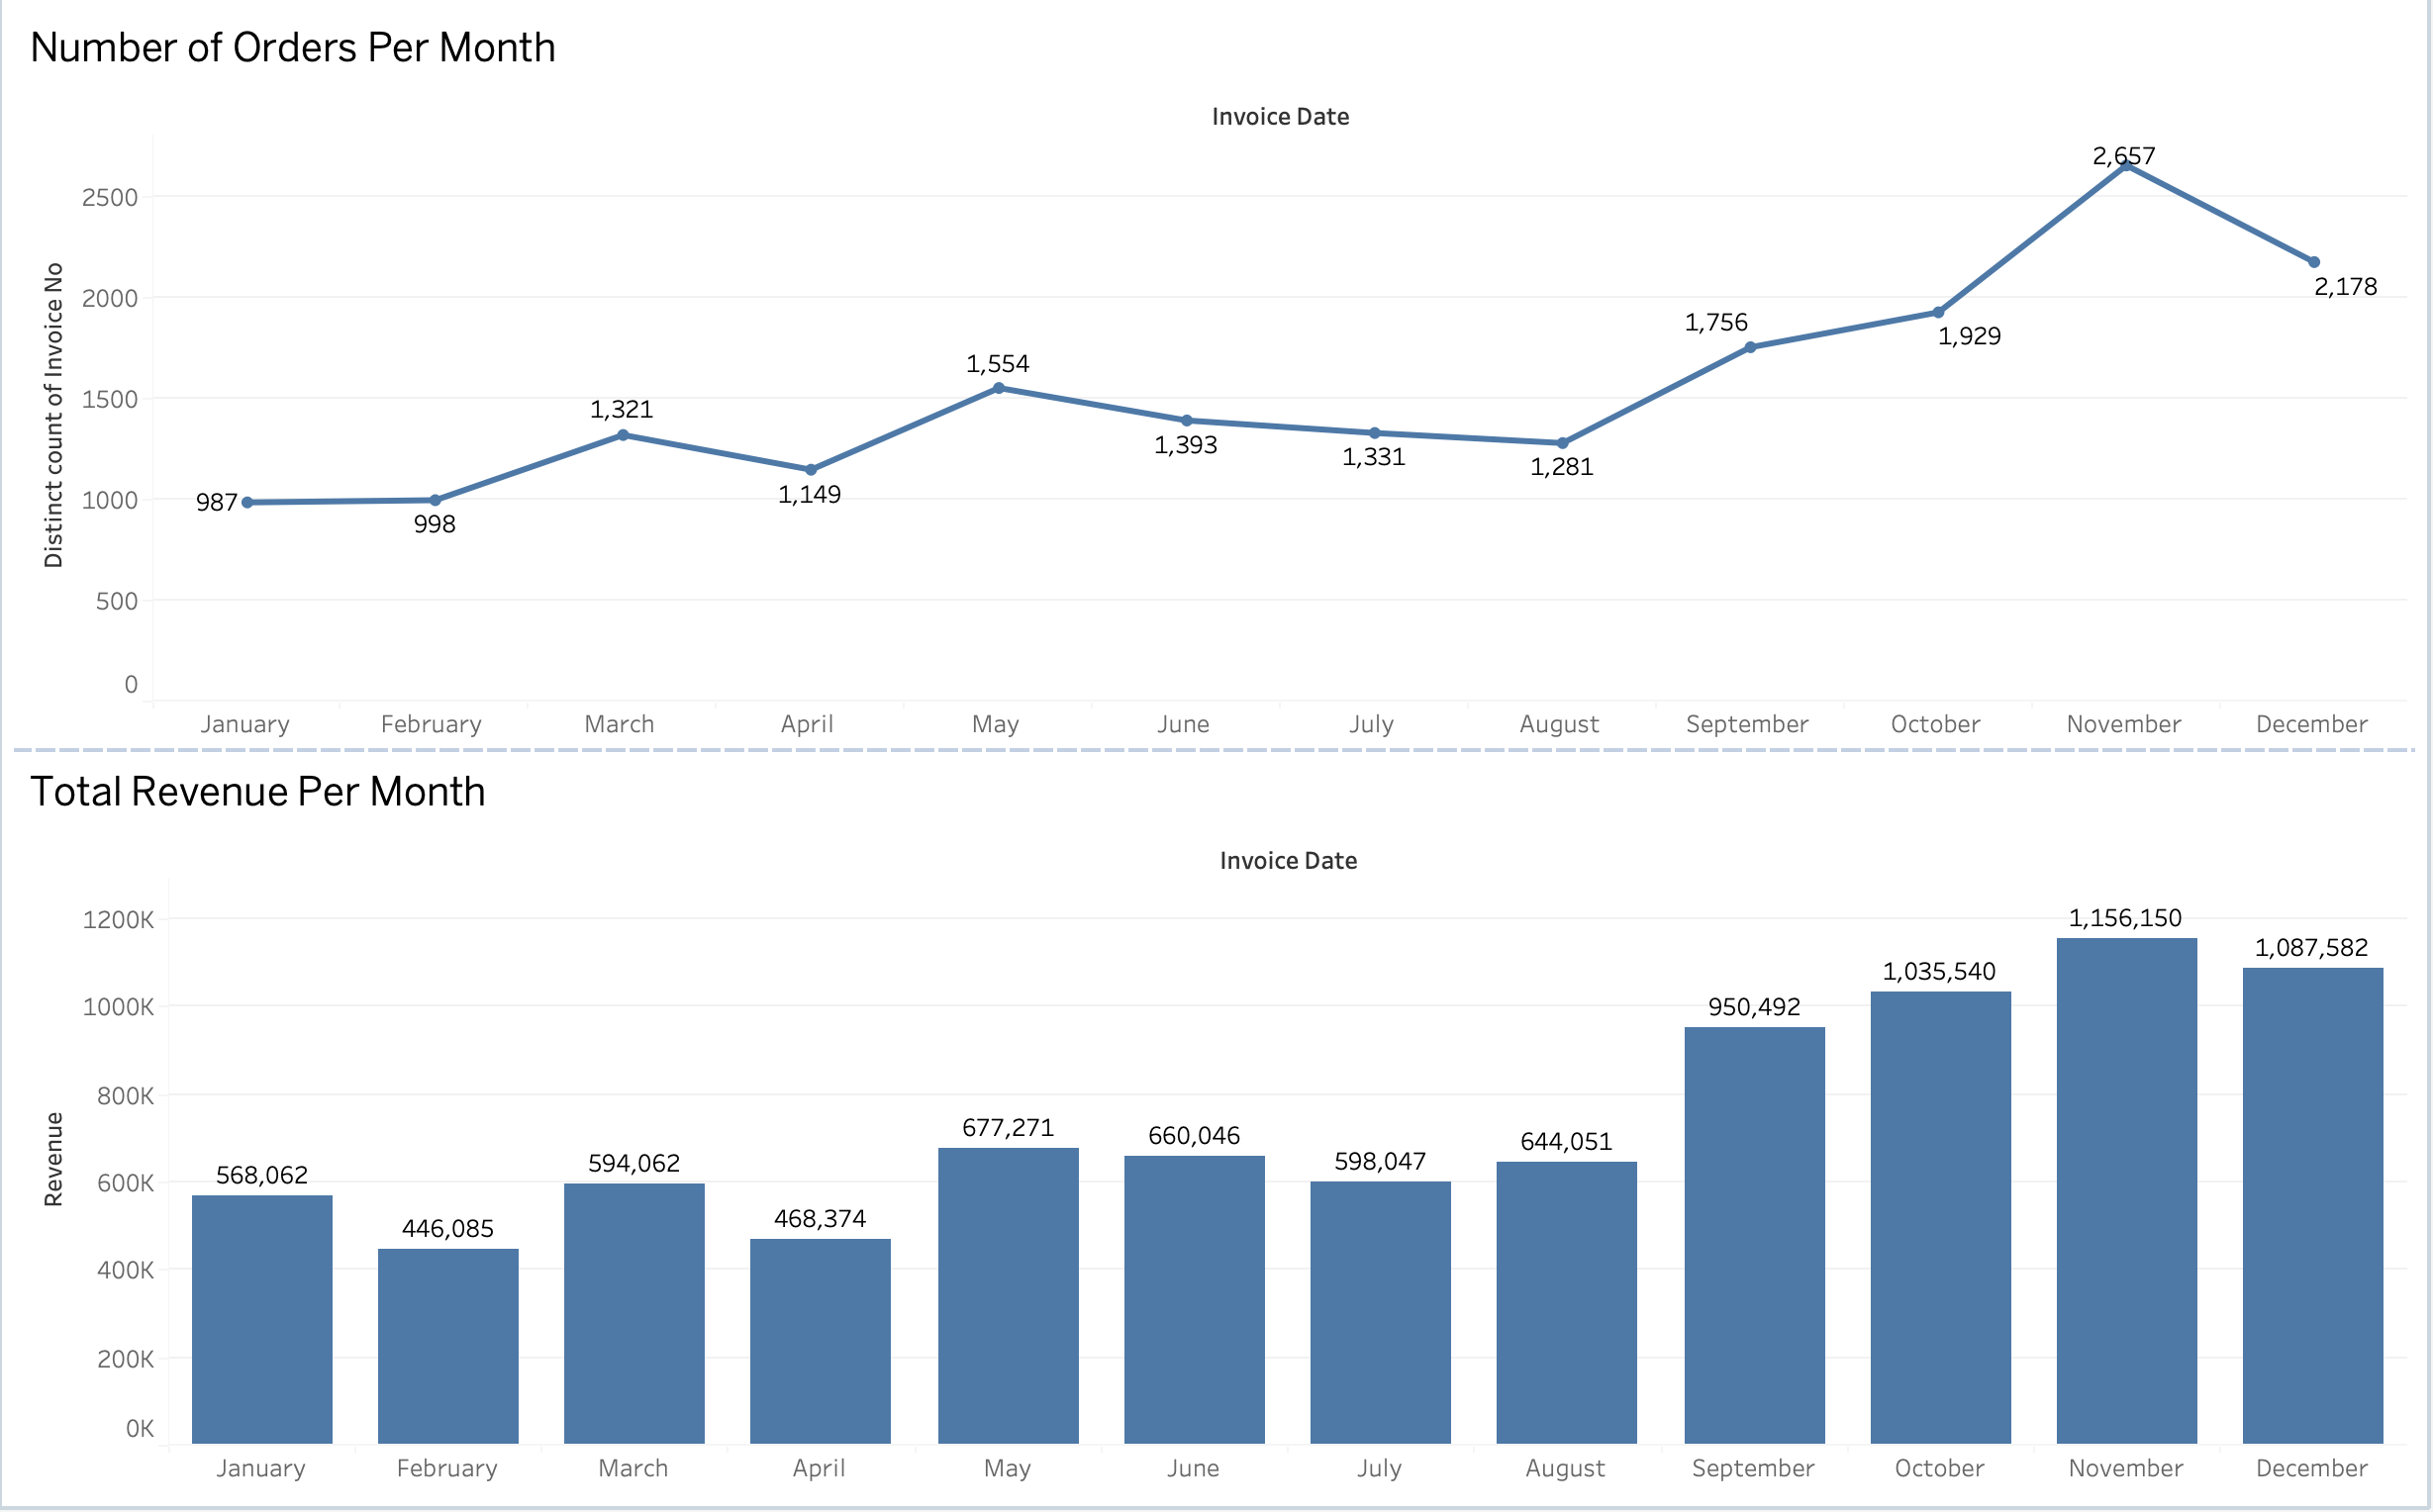

The page's visual inventory and layout, read from the dashboard file:
{"tool":"tableau","page":{"name":"Sales Overview Dashboard","canvas":[1000,1000],"units":"permille","ordinal":0},"visuals":[{"type":"worksheet","title":"Sheet 2","mark":"Automatic","rows":["InvoiceNo"],"cols":["InvoiceDate"],"box":[6.5,10.4,987,489.6]},{"type":"worksheet","title":"Sheet 1","mark":"Bar","rows":["Revenue"],"cols":["InvoiceDate"],"box":[6.5,500,987,489.6]}]}

Visuals, with their boxes on the dashboard's canvas, which has no fixed pixel size, in thousandths of its width and height (x1, y1, x2, y2). These are canvas units, not pixel positions in the 2433x1512 screenshot, which may show the page scaled, cropped or inside an application window:
"Sheet 2" worksheet: bbox=[6, 10, 994, 500]
"Sheet 1" worksheet (Bar marks): bbox=[6, 500, 994, 990]
